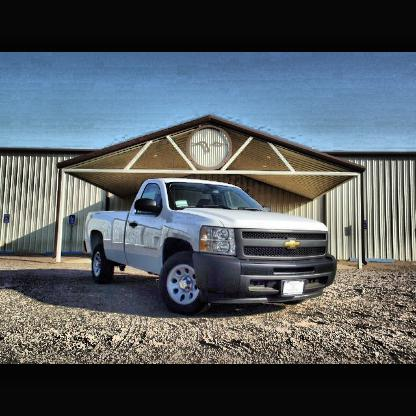Chevrolet Silverado 1500 Regular Cab 2012: (84, 179, 338, 317)
